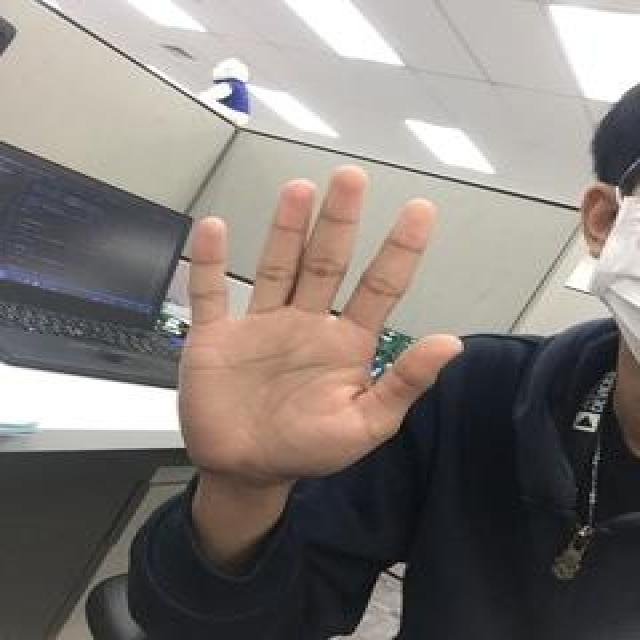hand: (171, 163, 464, 479)
